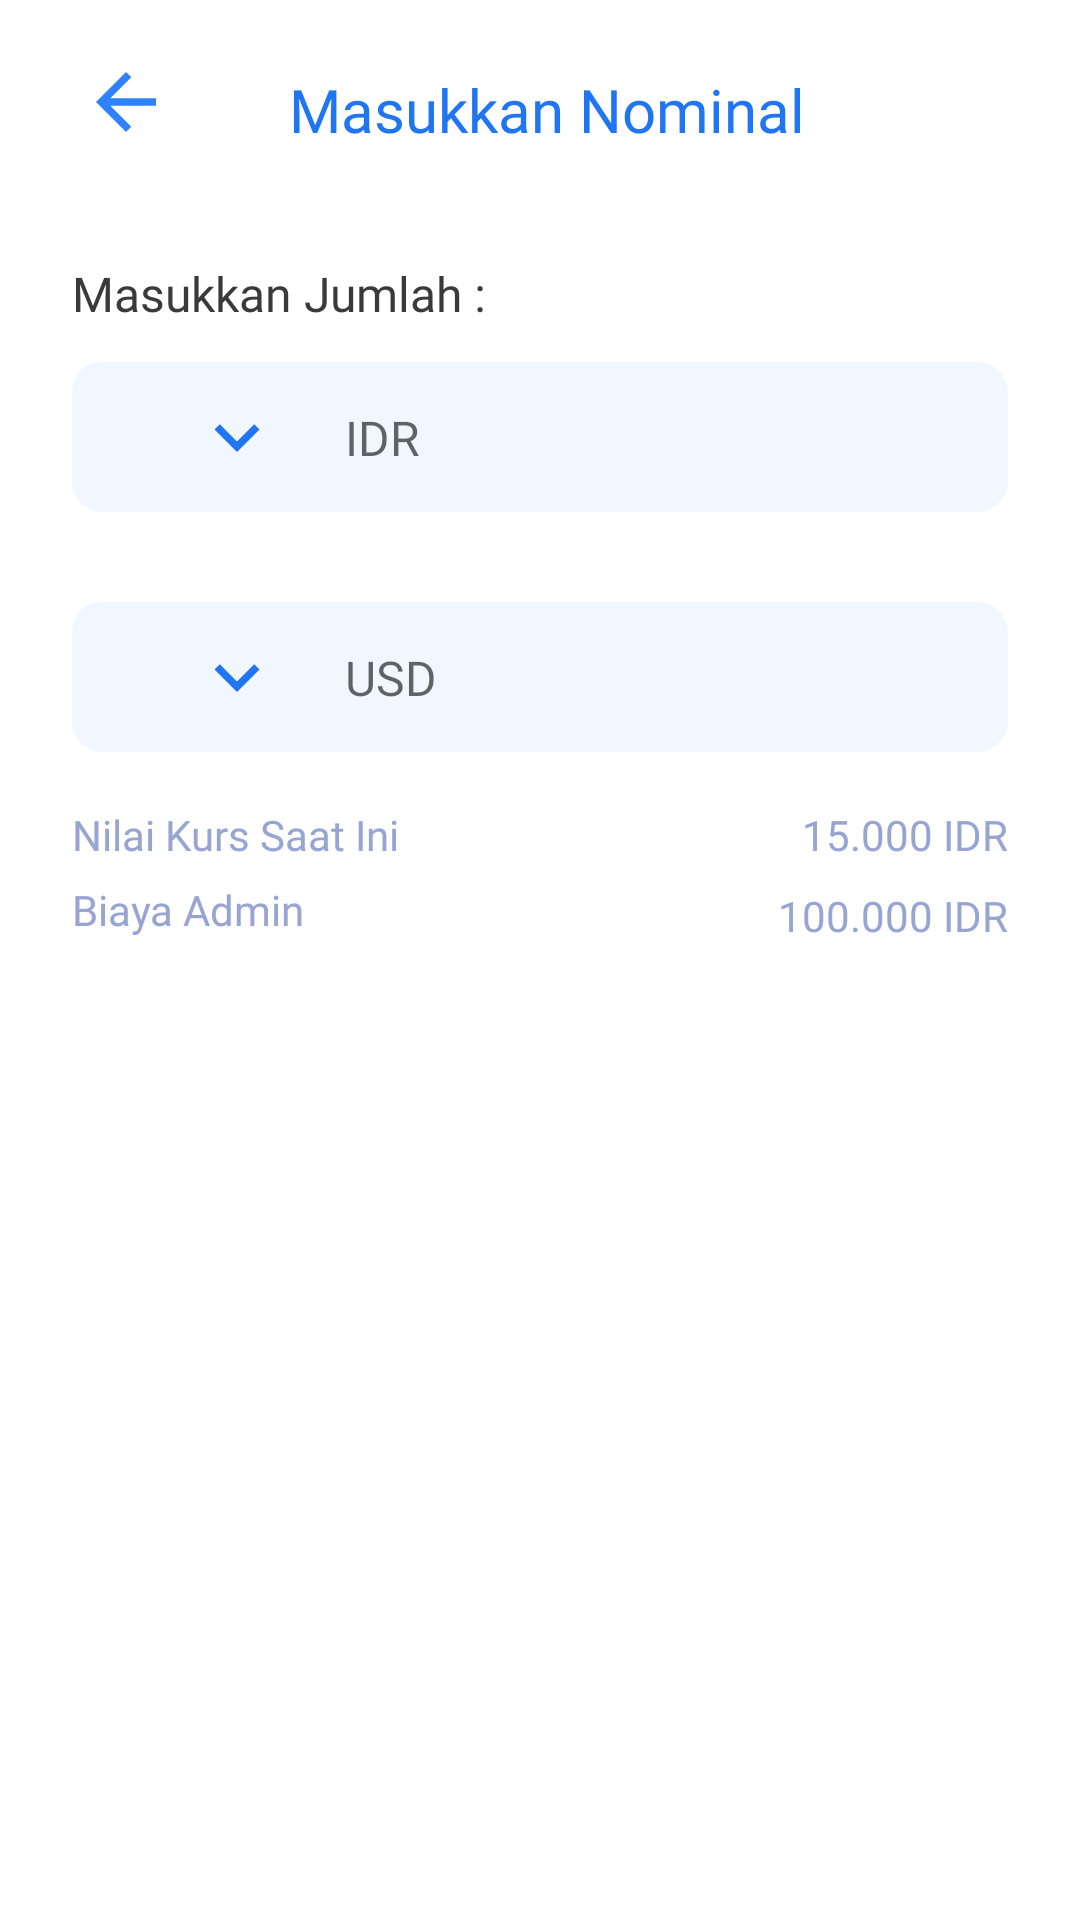

Icons on this 1080 x 1920 Android screen, each with its box as rect(x1, y1, x2, y2):
arrow back: rect(96, 72, 156, 132)
keyboard arrow down: rect(214, 424, 260, 452), rect(214, 664, 260, 692)
